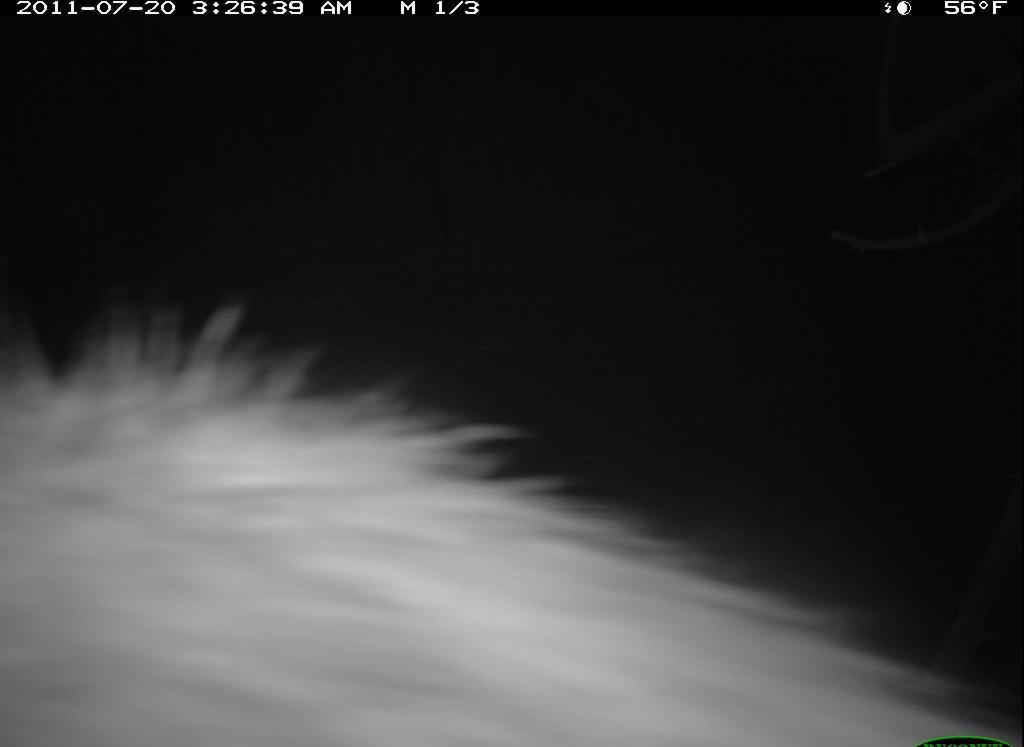raccoon: (2, 277, 1017, 747)
